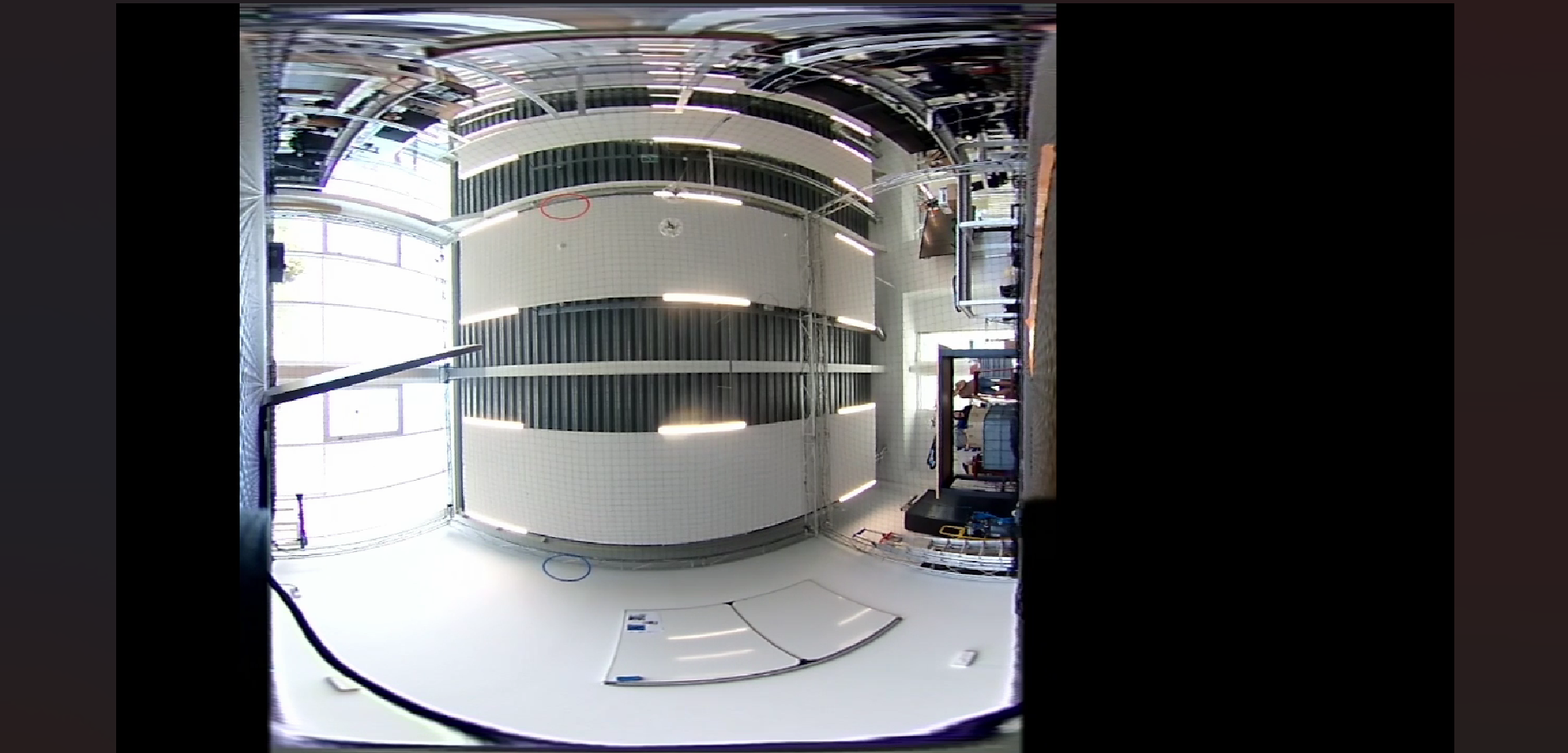Drone: (659, 183, 690, 205), (656, 216, 684, 239)
